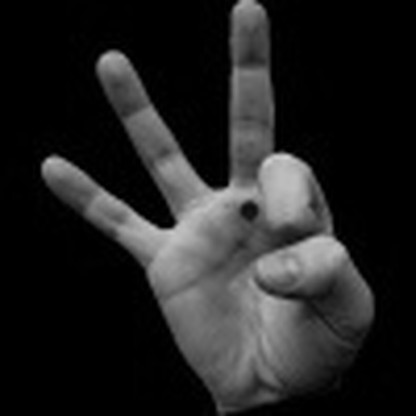f: (37, 1, 381, 390)
